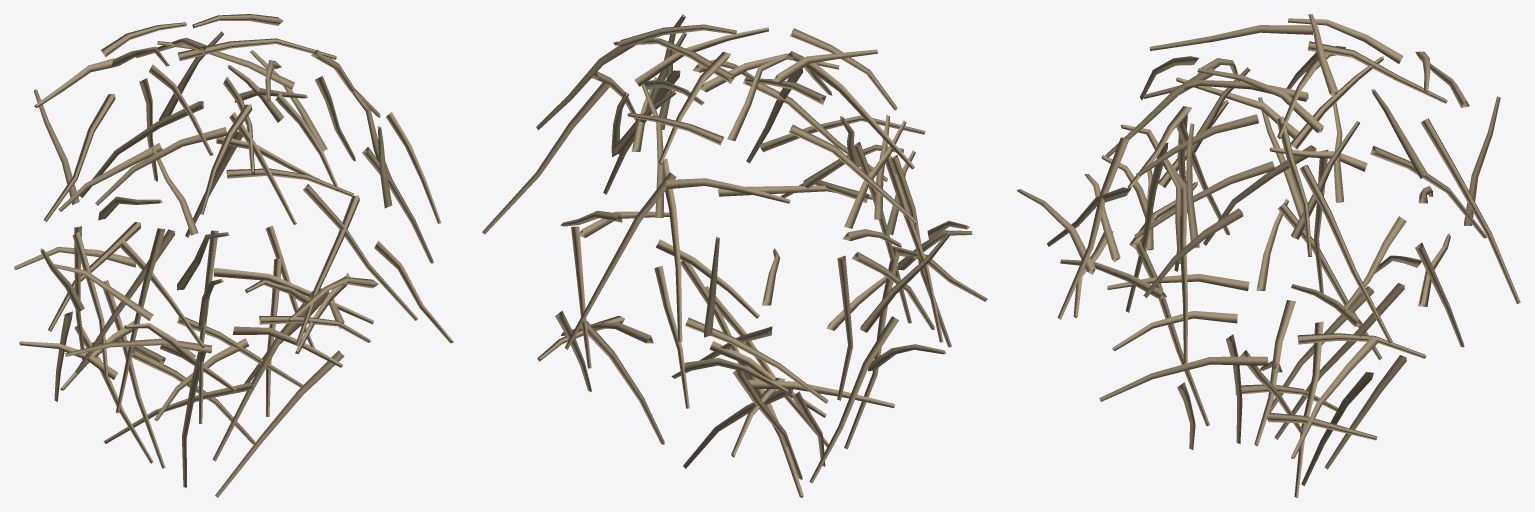
Rendered from tumbleweed_1.glb.
3 renders of one model, left to right at view 1: azimuth 30°, elevation 25°; view 2: azimuth 150°, elevation 25°; view 3: azimuth 270°, elevation 25°, orthographic. The views are drawn at different scales.
Parts seen in each view (by area): view 1: tumbleweed_1; view 2: tumbleweed_1; view 3: tumbleweed_1.
Part boxes in pixels (<box>): tumbleweed_1: <box>14,14,453,497</box>; tumbleweed_1: <box>482,14,987,497</box>; tumbleweed_1: <box>1016,14,1520,497</box>.
Size of the model in its own units: 0.8705 by 0.9237 by 0.9245.
